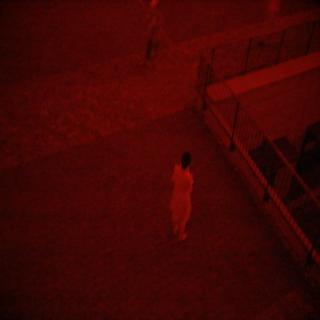person: (160, 145, 205, 249)
